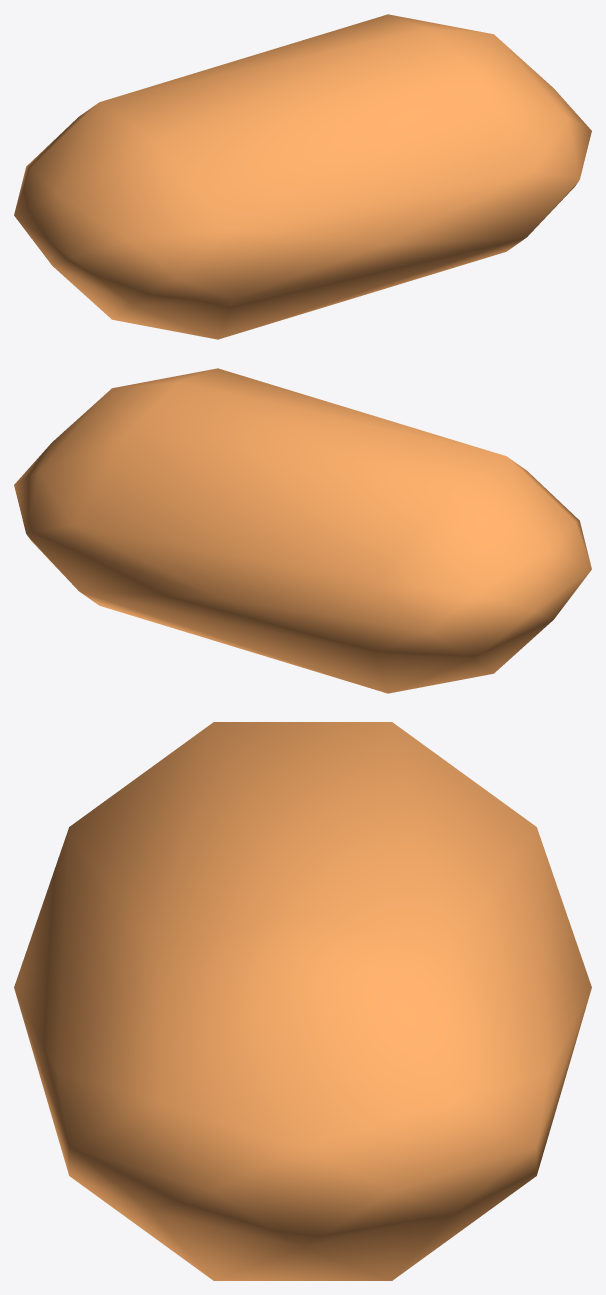
The model's file is Dough-Lowpoly.fbx.
The picture shows the model from 3 angles, top to bottom: view 1: azimuth 30°, elevation 25°; view 2: azimuth 150°, elevation 25°; view 3: azimuth 270°, elevation 25°; orthographic projection. The views are drawn at different scales.
Parts seen in each view (by area): view 1: Dough; view 2: Dough; view 3: Dough.
Part boxes in pixels (box(x1,y1,x2,y2)): Dough: box(14, 14, 591, 339); Dough: box(14, 368, 591, 693); Dough: box(14, 722, 591, 1280).
Size of the model in its own units: 118 by 52.07 by 74.01.
